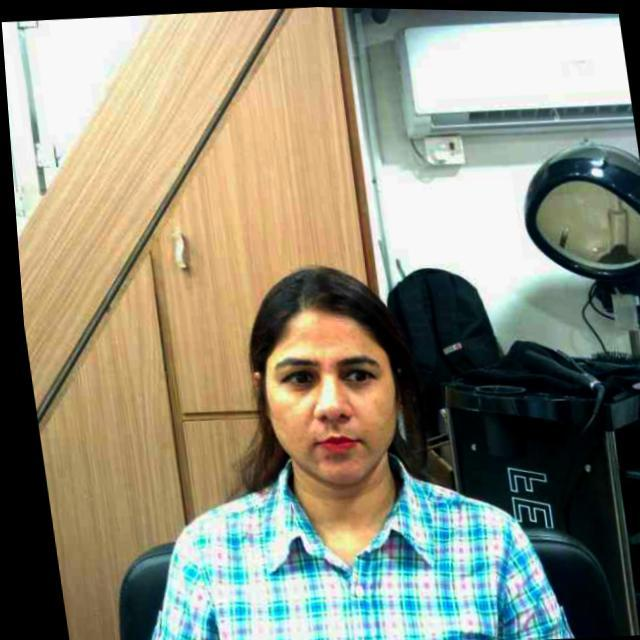Puffy Eyes - v3 Dark Circle: (277, 380, 308, 390)
